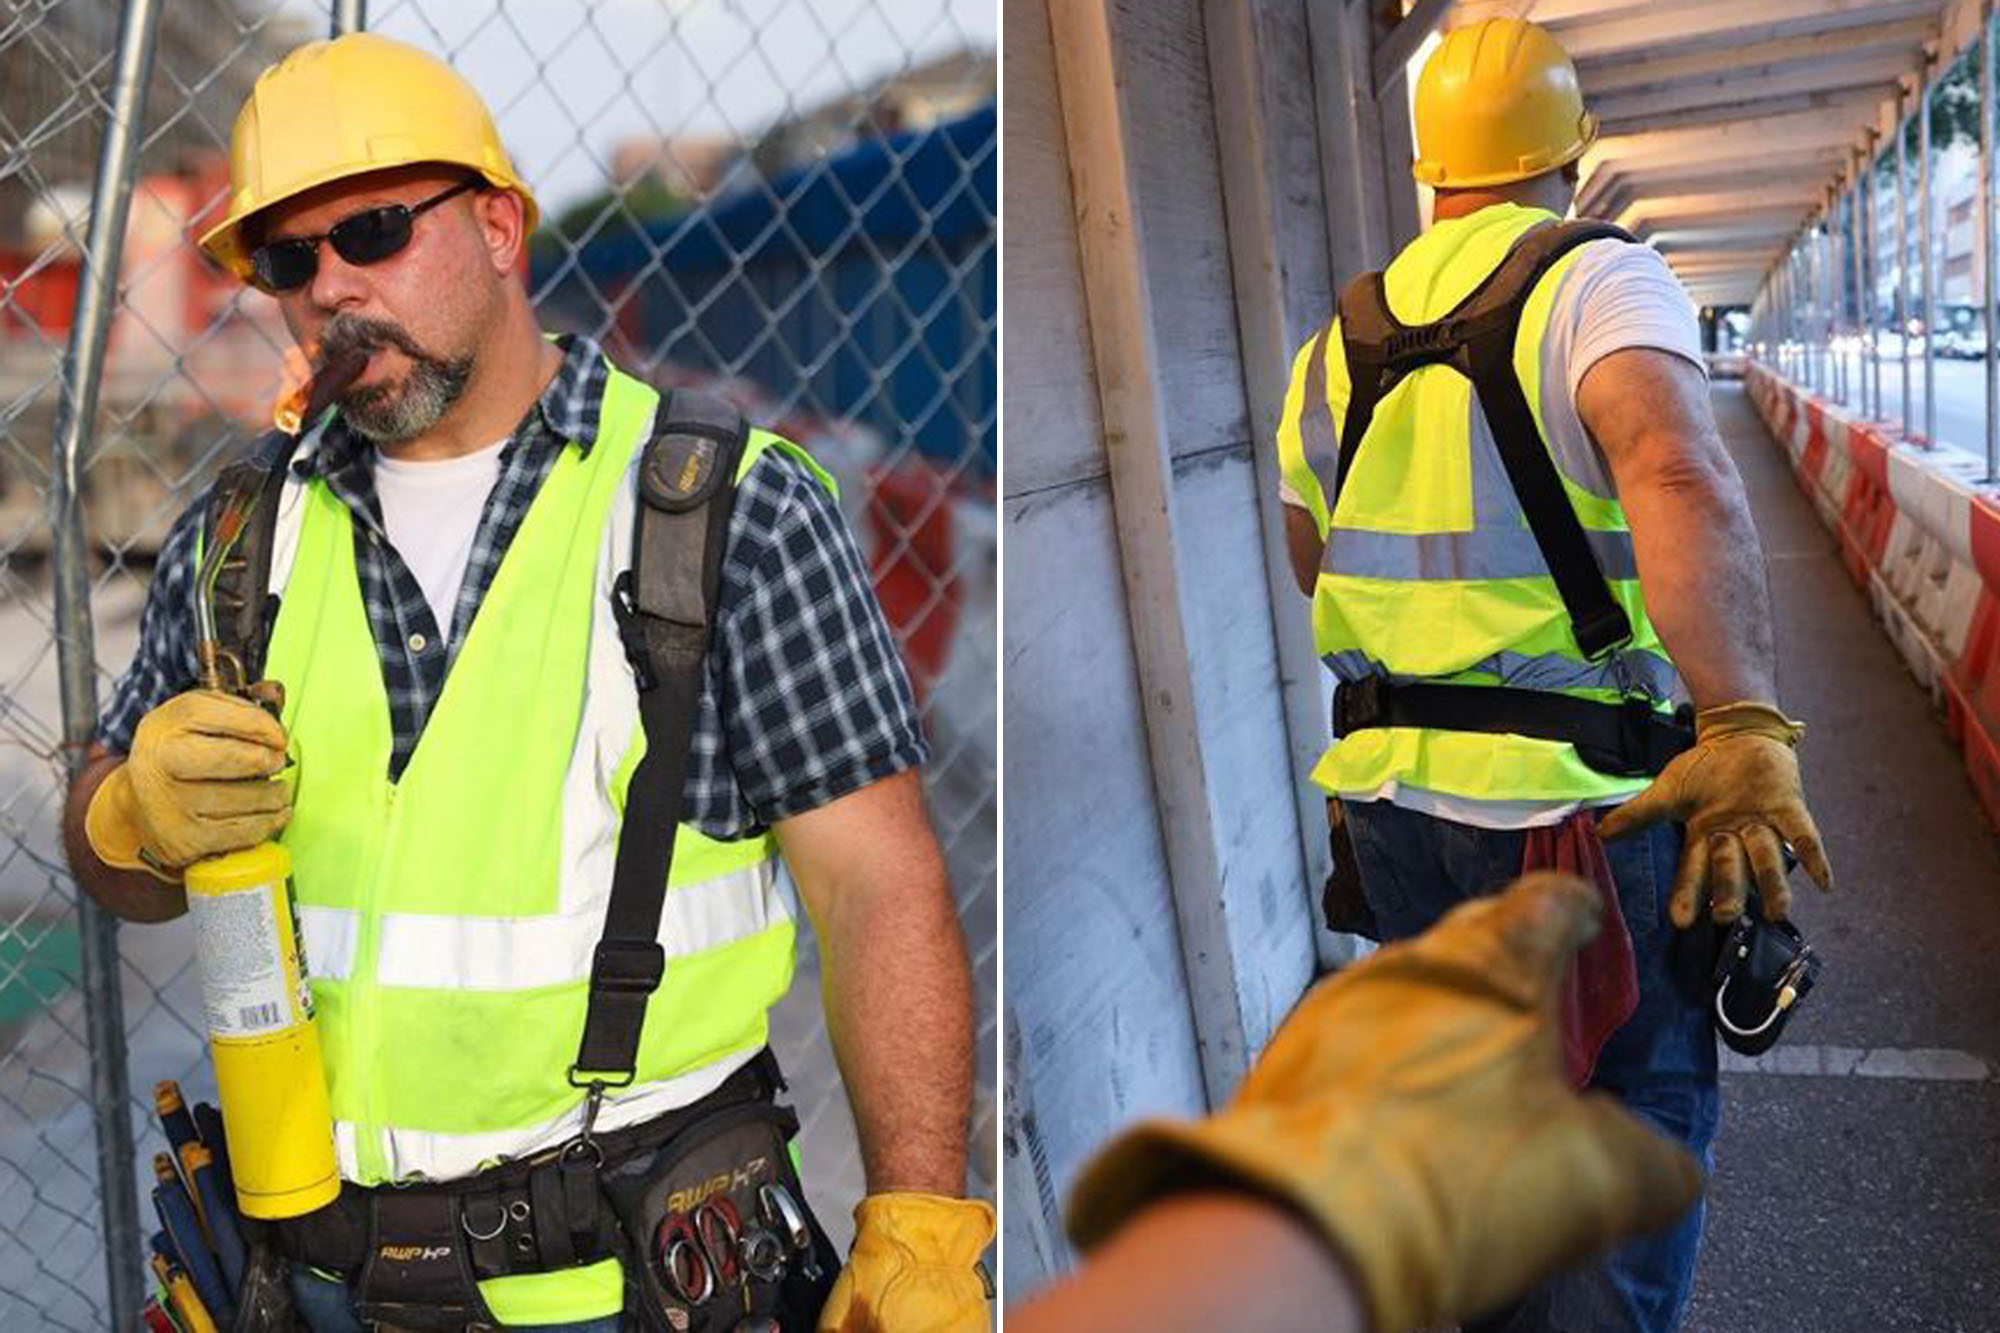hard hat: (196, 36, 529, 257), (1413, 16, 1597, 189)
high-vis: (208, 370, 837, 1199), (1268, 205, 1685, 800)
